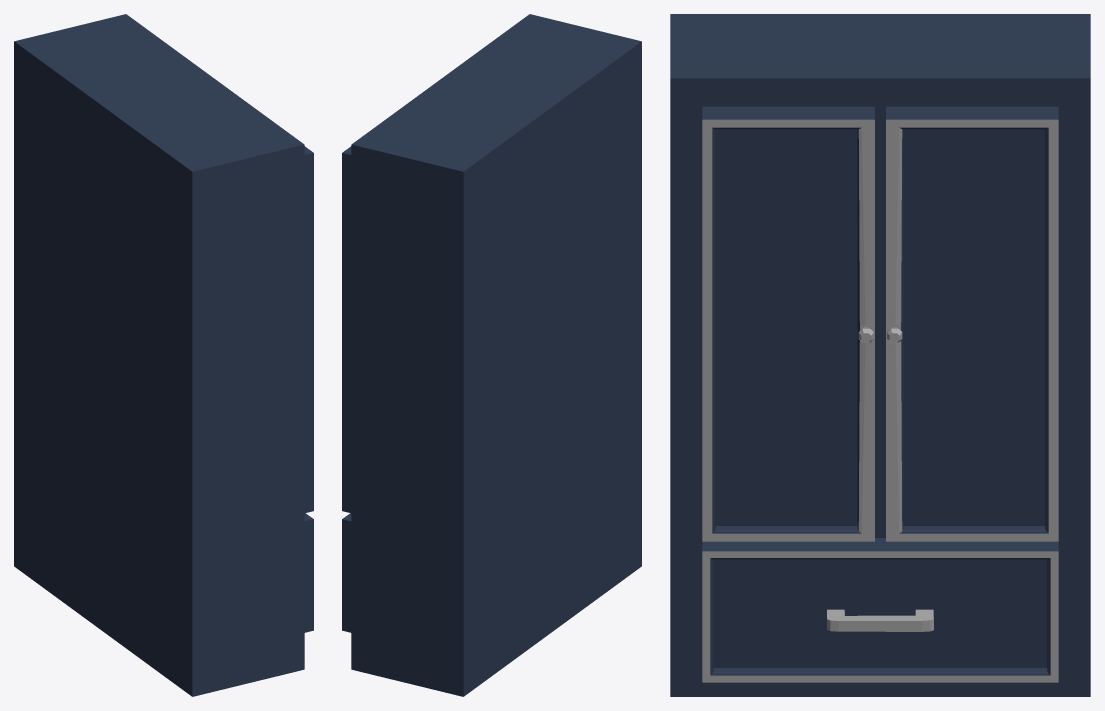
The model's file is dolap.fbx.
3 views of the same model, side by side, from view 1: azimuth 30°, elevation 25°; view 2: azimuth 150°, elevation 25°; view 3: azimuth 270°, elevation 25° (orthographic). The views are drawn at different scales.
Visible parts, largest first — view 1: Cube; view 2: Cube; view 3: Cube.
Part boxes in pixels (x1,y1,x2,y2): Cube: (14, 14, 313, 696); Cube: (342, 14, 641, 696); Cube: (670, 14, 1090, 696).
Bounding box in the file's own units: 334 × 1150 × 708.
